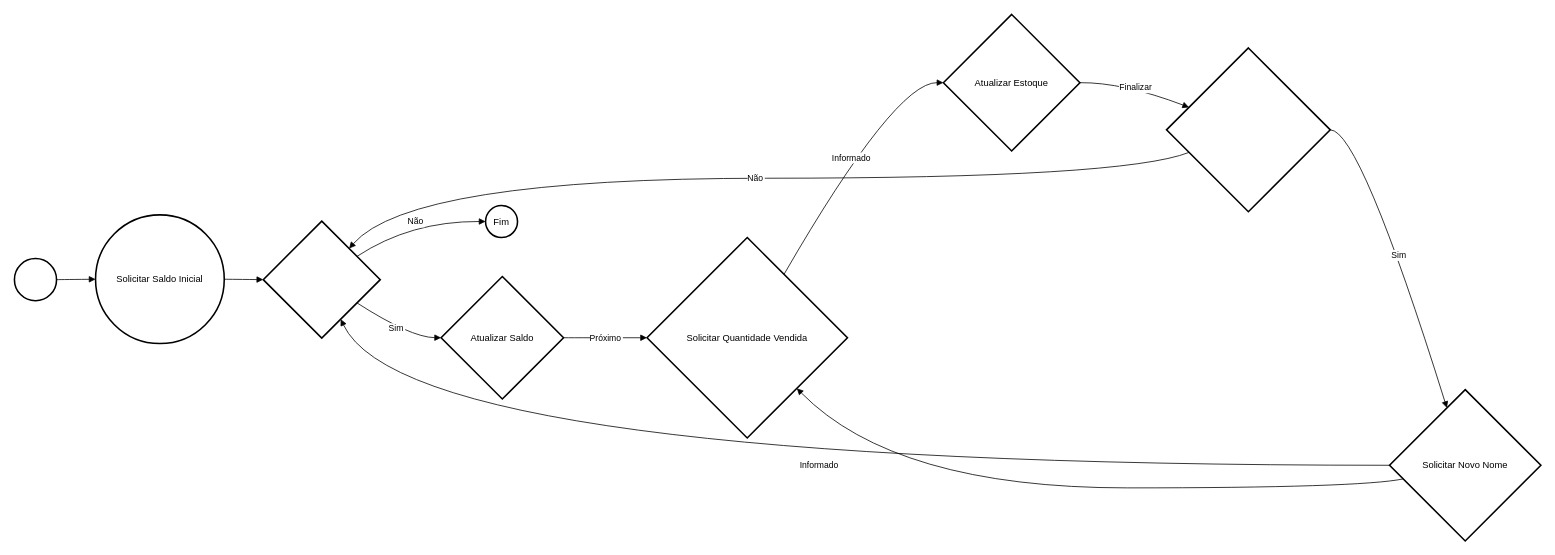
The diagram is 1555 pixels wide and 555 high, and some of its shapes have lost their labels. Each missing label, with the centre of its shape:
"Início" belongs at point (35, 279).
"Loop Principal" belongs at point (321, 279).
"Verificar Novo Produto" belongs at point (1248, 129).
